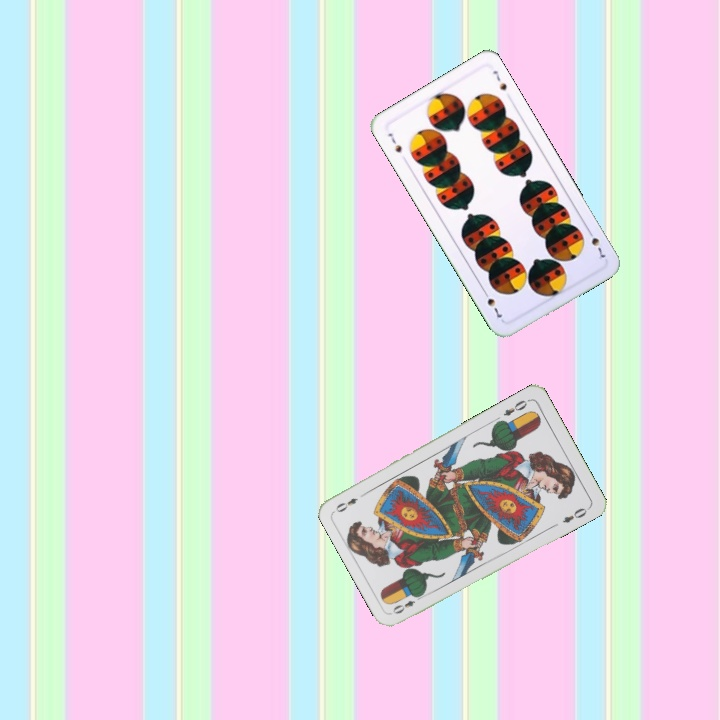EO: (388, 591, 426, 617), (499, 395, 532, 419)
S7: (583, 225, 608, 262), (383, 129, 404, 155)
